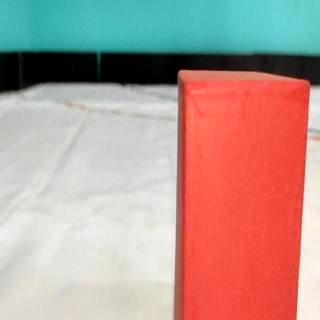redbox: (181, 73, 297, 320)
